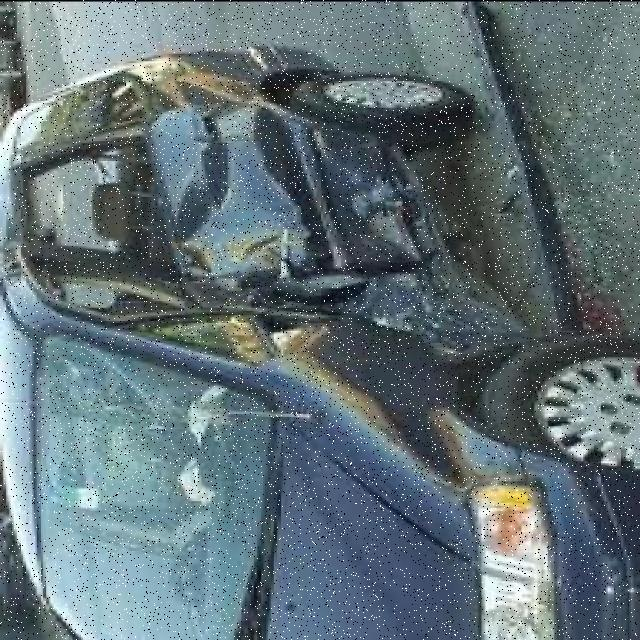damage: (2, 64, 528, 478)
